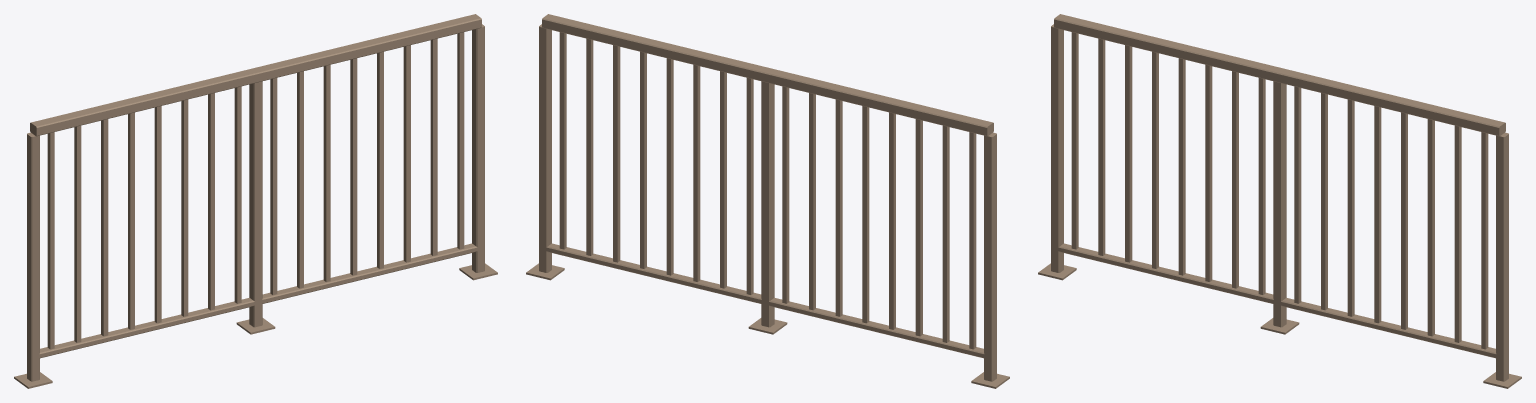
File: gc-s80b-barreaudage-200-quartz-1019.glb
The picture shows the model from 3 angles, left to right: view 1: azimuth 30°, elevation 25°; view 2: azimuth 150°, elevation 25°; view 3: azimuth 330°, elevation 25°; orthographic projection.
Parts seen in each view (by area): view 1: structure; view 2: structure; view 3: structure.
Boxes of the visible parts, x1,y1,x2,y2 form: structure: [14, 14, 497, 388]; structure: [526, 14, 1009, 388]; structure: [1038, 14, 1521, 388].
Bounding box in the file's own units: 2.11 × 1.1 × 0.11.
